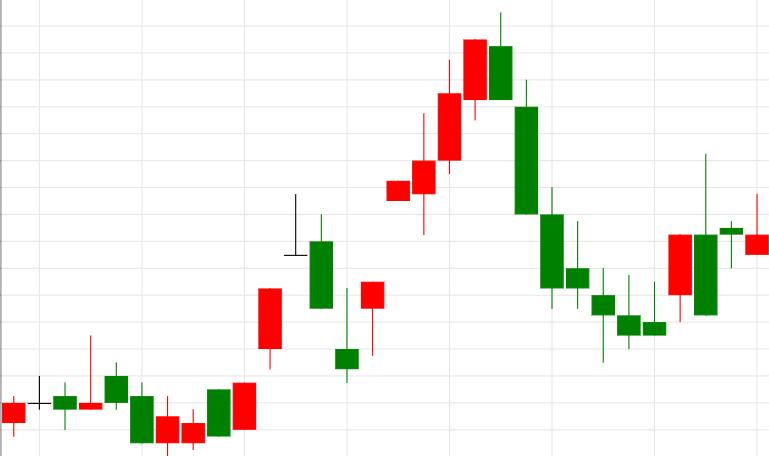three_black_crows_fall: (361, 10, 564, 355)
